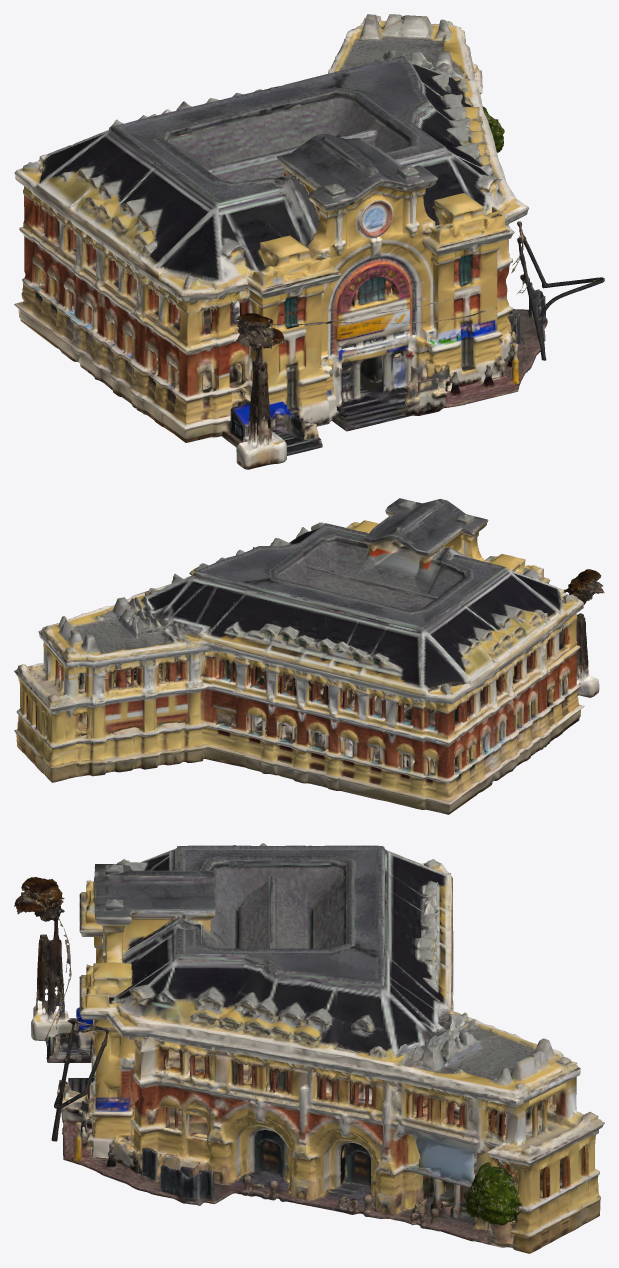
The model's file is buudien.glb.
The picture shows the model from 3 angles, top to bottom: view 1: azimuth 30°, elevation 25°; view 2: azimuth 150°, elevation 25°; view 3: azimuth 270°, elevation 25°; orthographic projection. The views are drawn at different scales.
Visible parts, largest first — view 1: Mesh_0; view 2: Mesh_0; view 3: Mesh_0.
Part boxes in pixels (x1,y1,x2,y2): Mesh_0: (14,14,604,469); Mesh_0: (14,498,604,814); Mesh_0: (14,843,604,1253).
Size of the model in its own units: 1.88 by 0.8198 by 1.9.
Materials: 1 (1 with a texture image).
